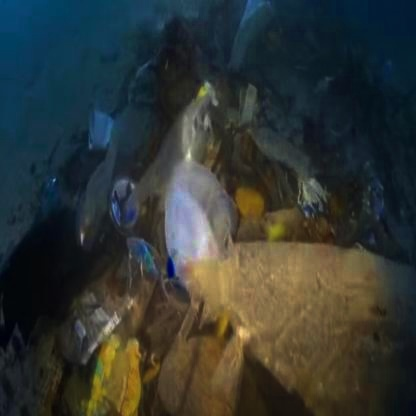can: (94, 176, 147, 233)
plastic: (167, 95, 263, 261), (68, 242, 169, 364)
